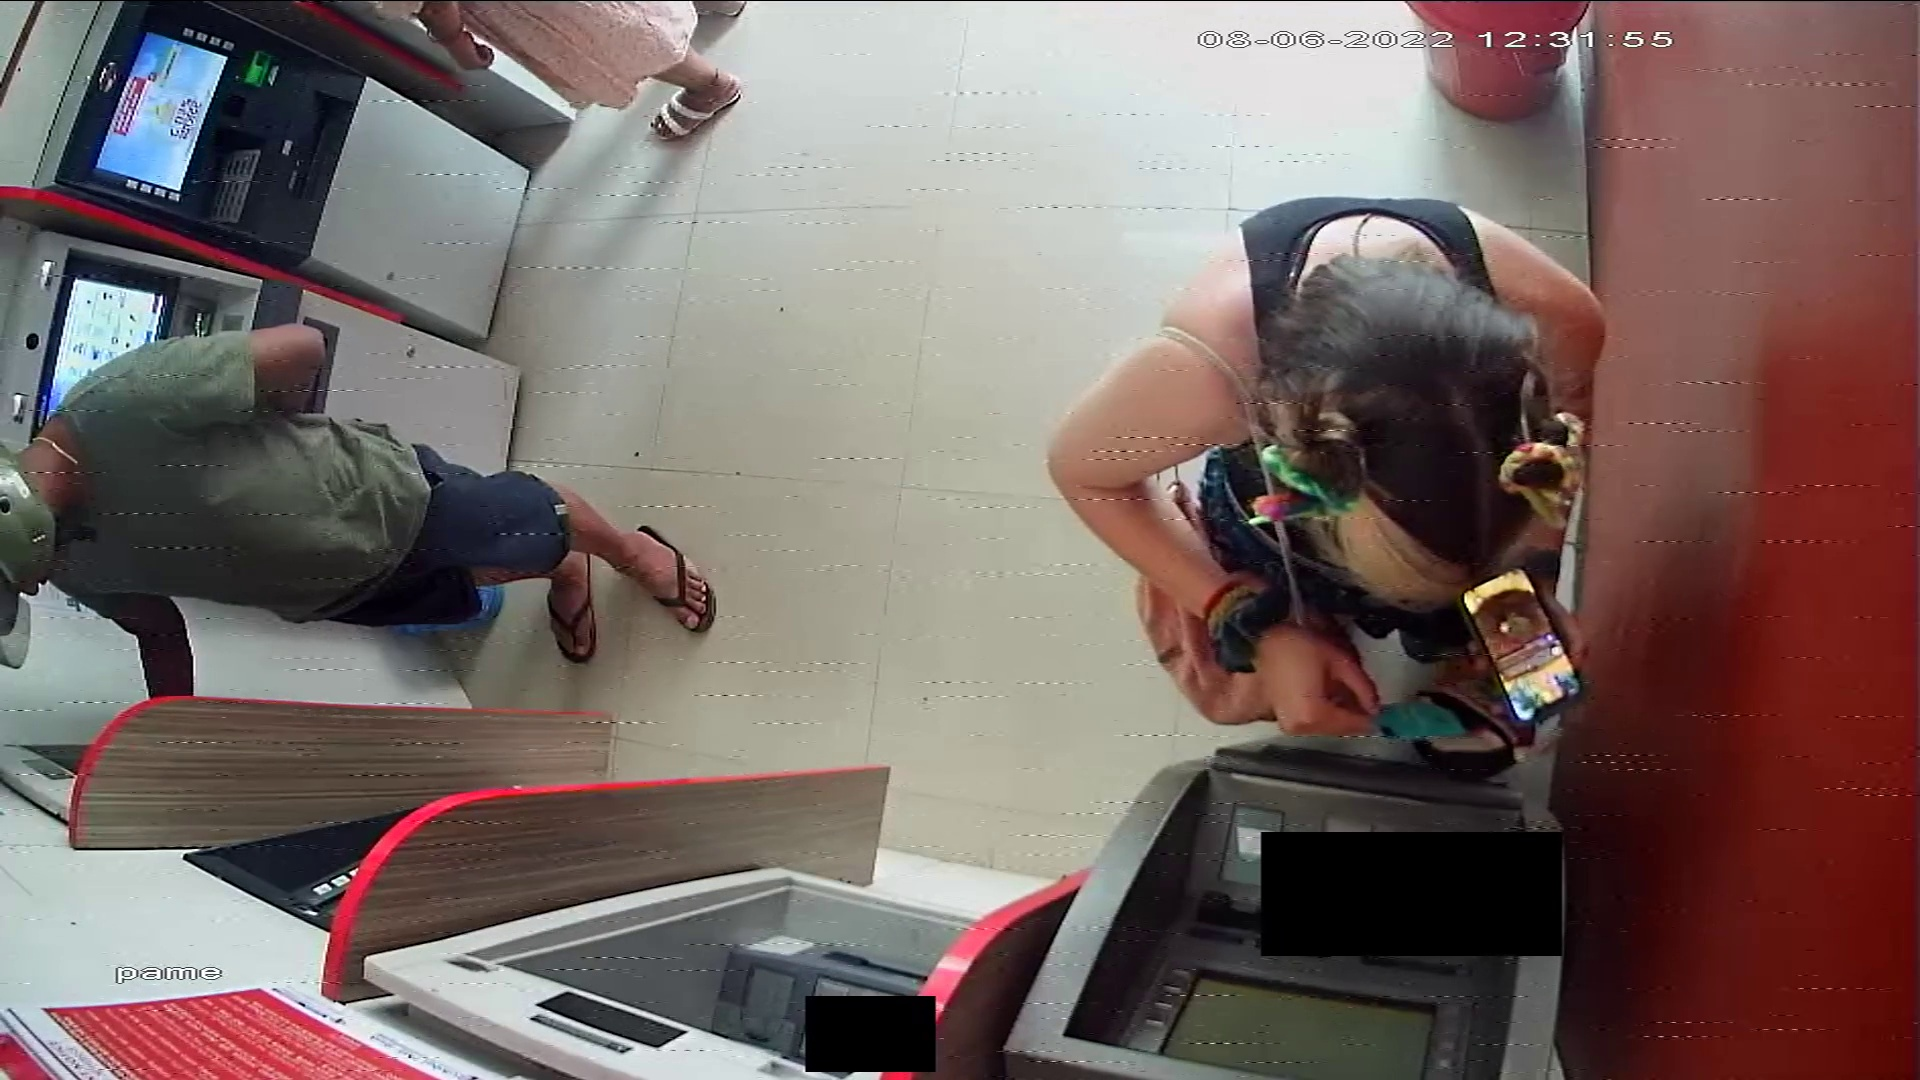helmet: (1, 437, 62, 667)
person: (1042, 197, 1606, 739), (1, 322, 718, 698)
phone: (1456, 571, 1584, 724)
